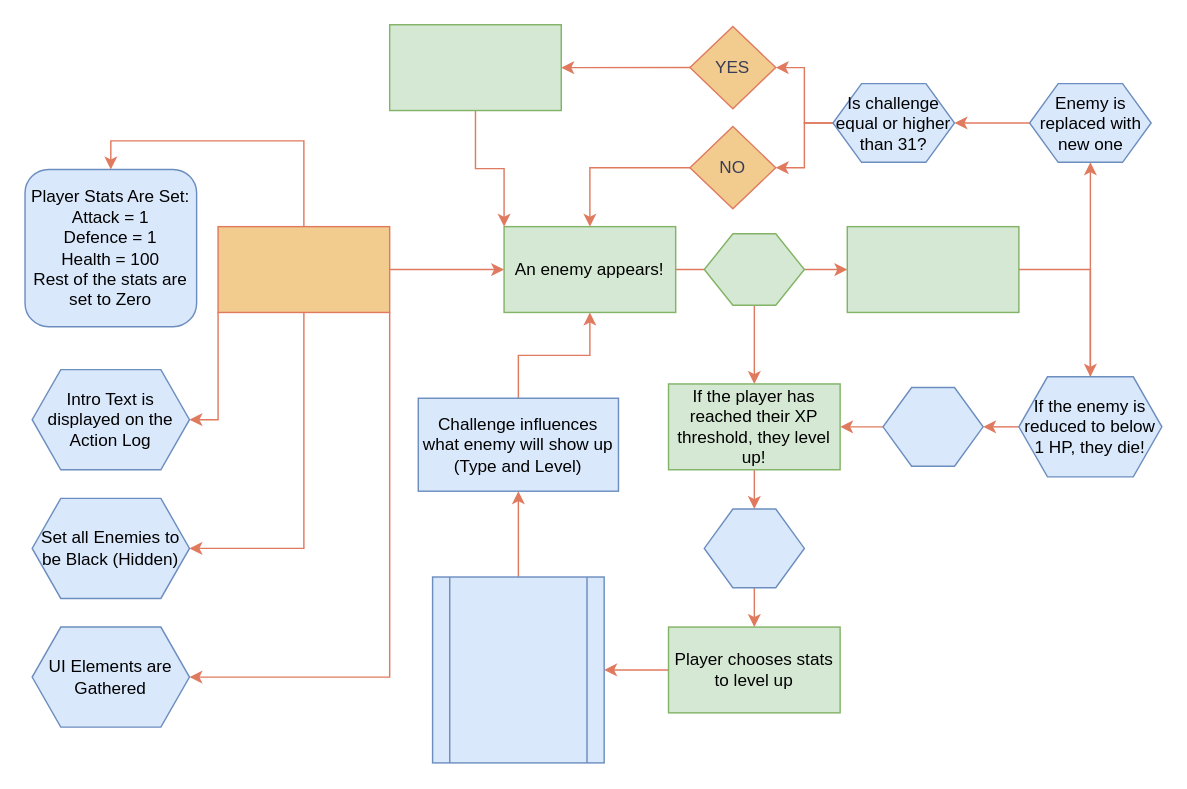
Some shapes in this 1187 by 789 pixel diagram are drawn without their labels. The box of each missing label's shape, as (x1, y1, x2, y2) in pixels:
(On Space): (703, 232, 804, 305)
Attack Defence Health Dodge Greed Challenge Lifesteal: (431, 576, 604, 763)
Final Boss Spawns!: (388, 23, 561, 111)
Player deals their attack value as damage to the enemy: (846, 225, 1019, 312)
Player Gains 5 Skill Points: (703, 508, 804, 588)
Player Gains XP: (882, 386, 983, 466)
Start of Game: (217, 225, 390, 312)
